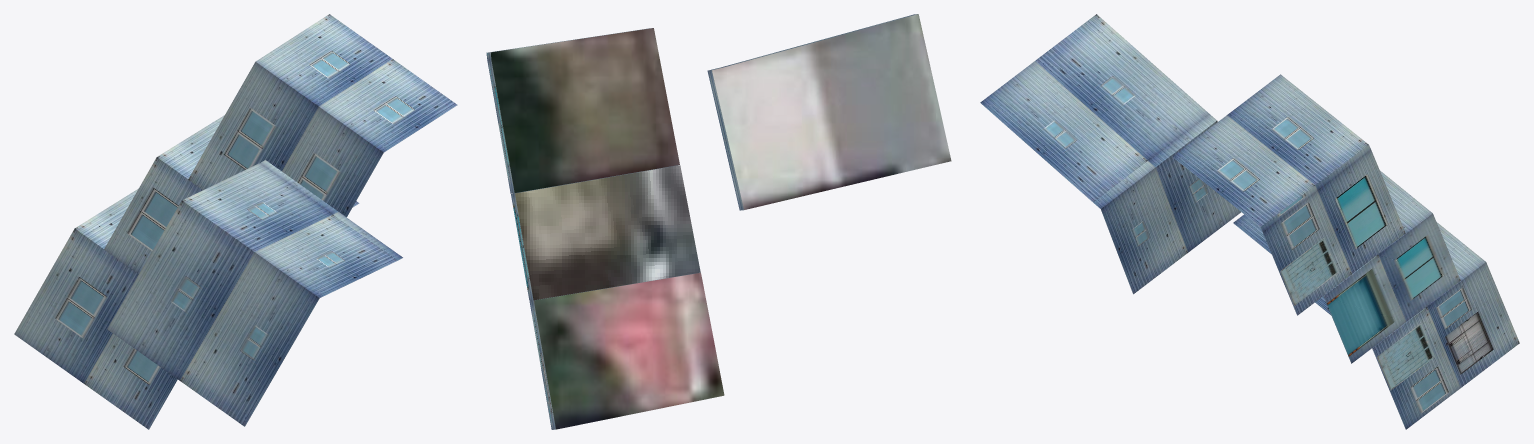
3 renders of one model, left to right at view 1: azimuth 30°, elevation 25°; view 2: azimuth 150°, elevation 25°; view 3: azimuth 270°, elevation 25°, orthographic. The views are drawn at different scales.
Bounding box in the file's own units: 19.89 × 17.35 × 25.
Materials: 17 (17 with a texture image).
